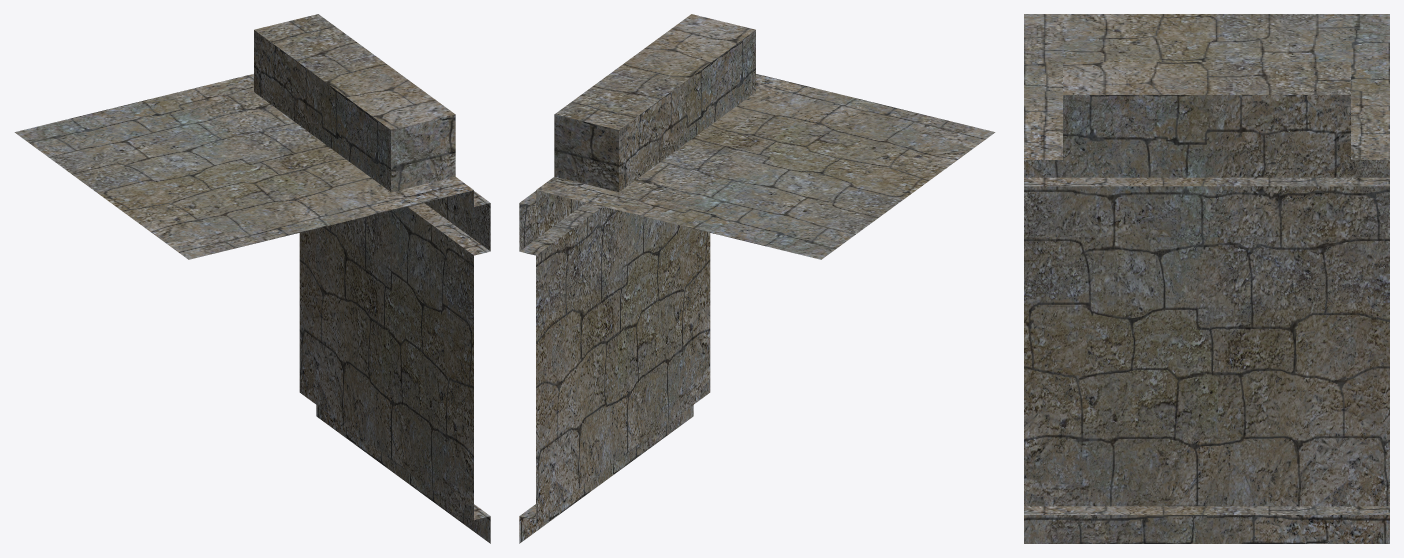
The model's file is B_Center.FBX.
3 renders of one model, left to right at view 1: azimuth 30°, elevation 25°; view 2: azimuth 150°, elevation 25°; view 3: azimuth 270°, elevation 25°, orthographic. The views are drawn at different scales.
Parts seen in each view (by area): view 1: Claimed101E001; view 2: Claimed101E001; view 3: Claimed101E001.
Part boxes in pixels (left/top/right/bottom): Claimed101E001: left=14, top=14, right=490, bottom=543; Claimed101E001: left=519, top=14, right=995, bottom=543; Claimed101E001: left=1024, top=14, right=1389, bottom=543.
Bounding box in the file's own units: 100 × 133 × 100.
